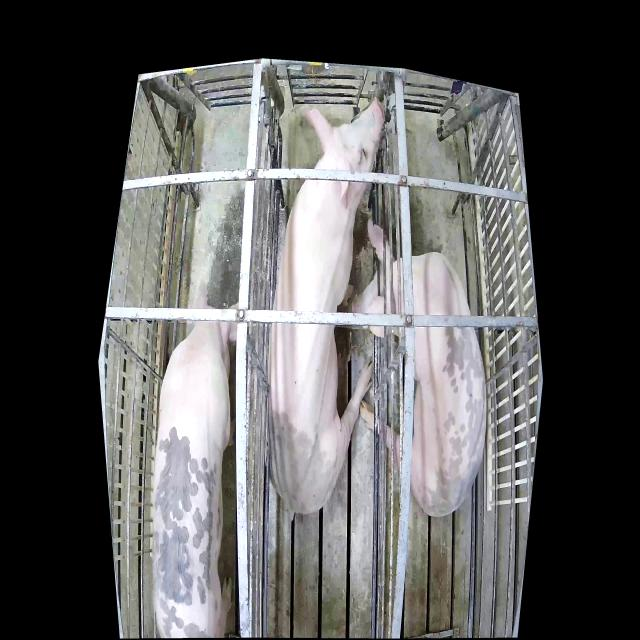pig: (268, 98, 387, 514), (353, 220, 488, 517), (154, 278, 238, 636)
